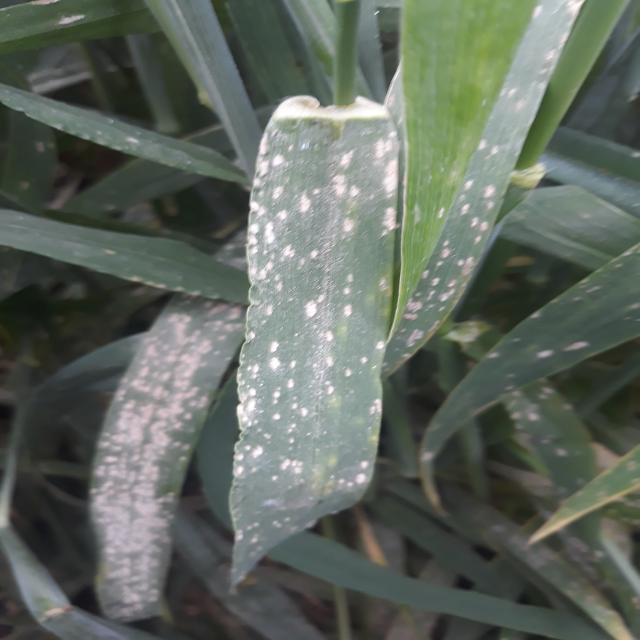powder_mildew: (227, 104, 439, 603), (366, 0, 598, 383), (85, 196, 258, 624), (470, 233, 634, 633), (6, 76, 227, 192), (0, 0, 125, 33)
